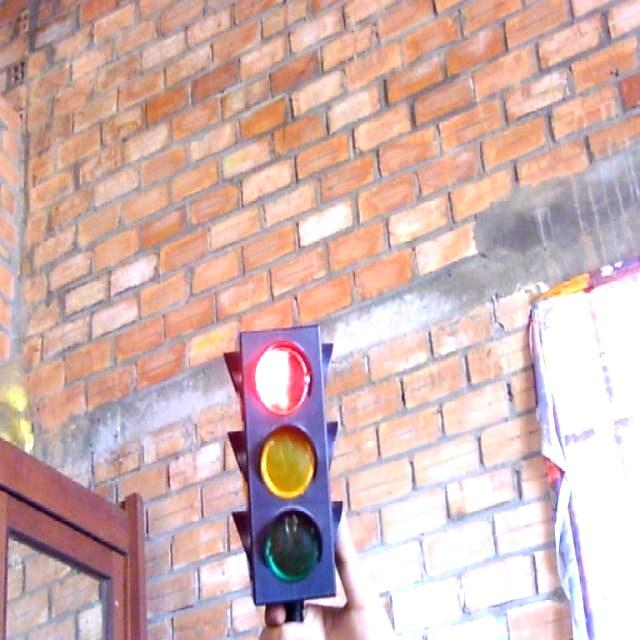Red: (236, 324, 344, 606)
